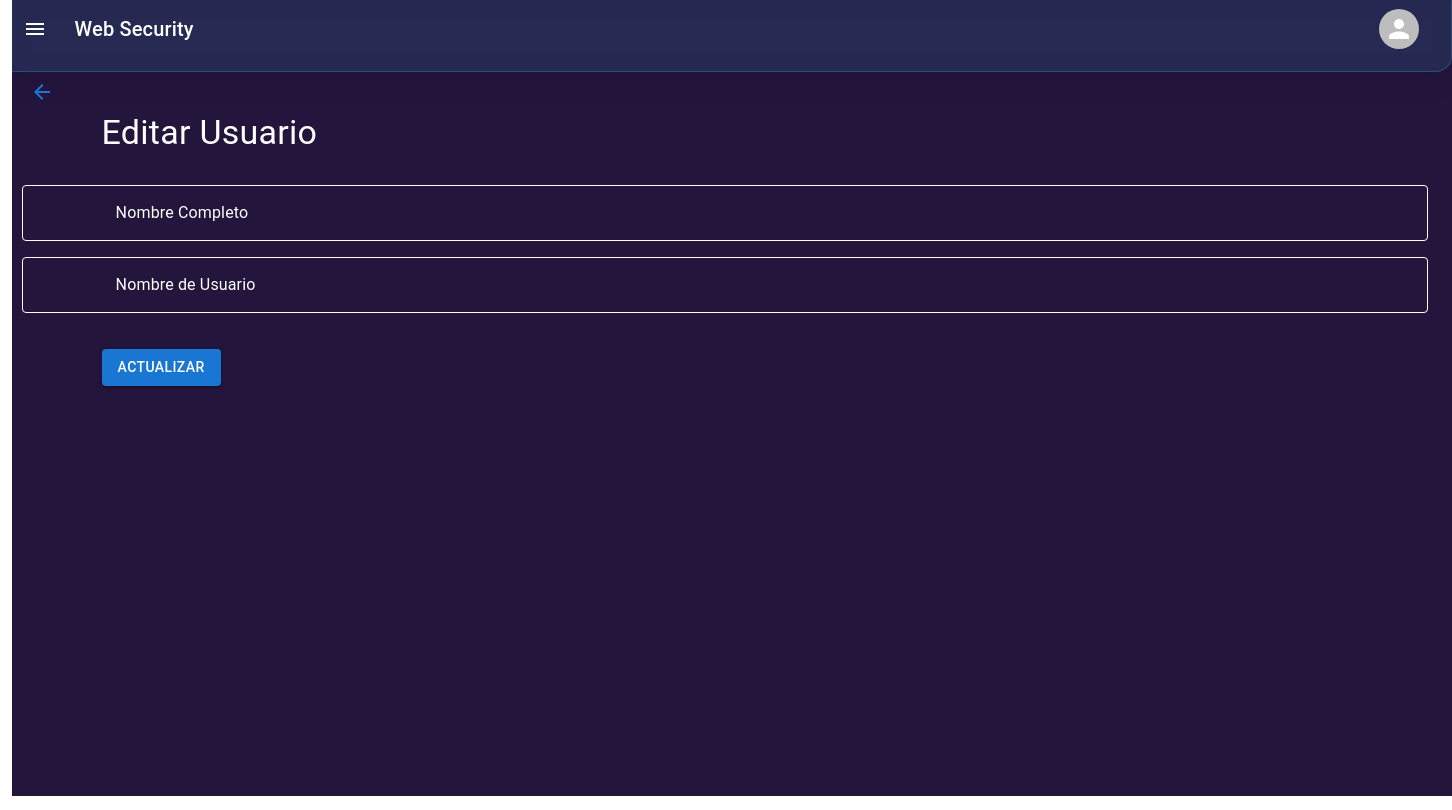
Test: EditUser Page › shows error message if required fields are empty on submit
Click the button "Actualizar": (161, 368) [102,350,221,386]
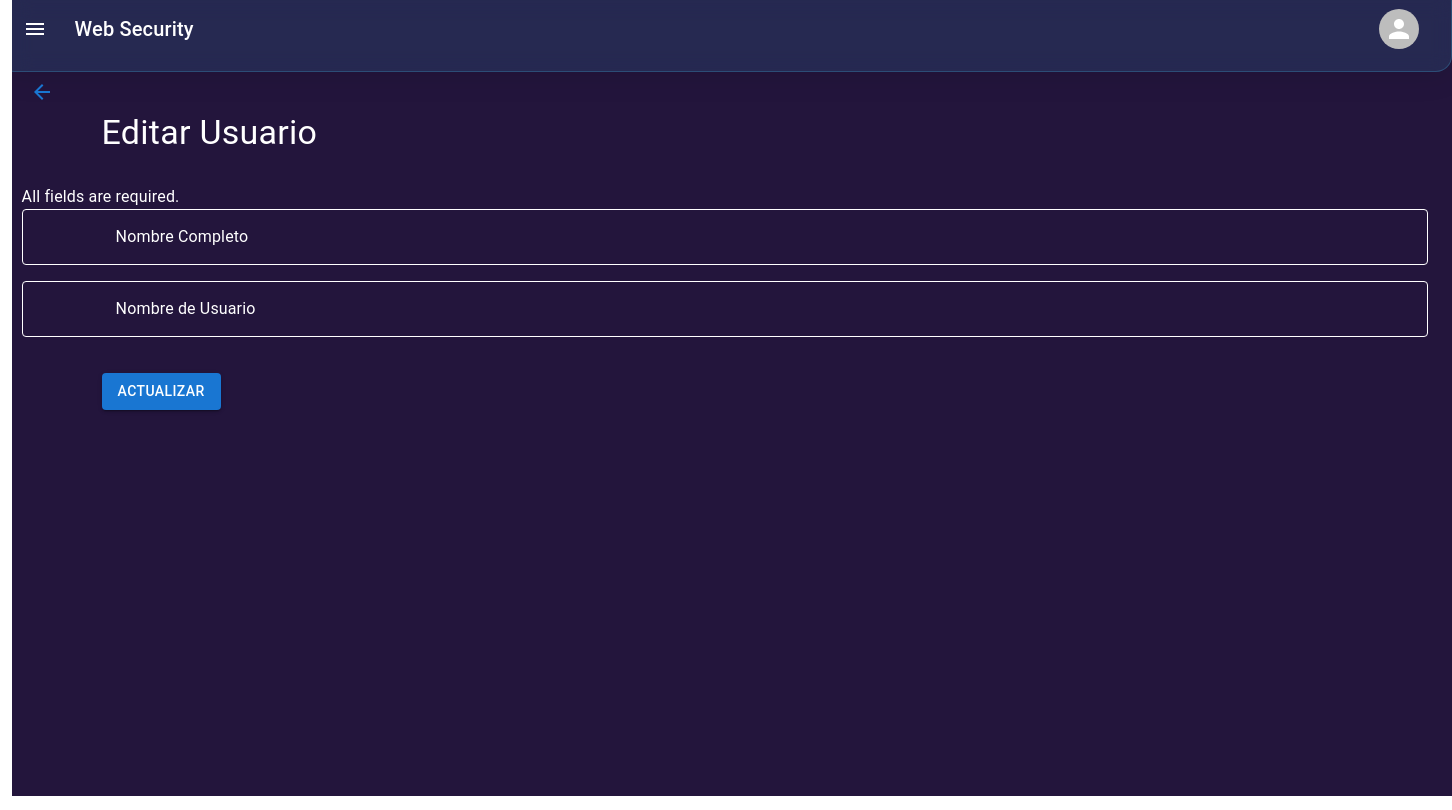
Now the text "All fields are required." is shown, box [22,188,180,206]
